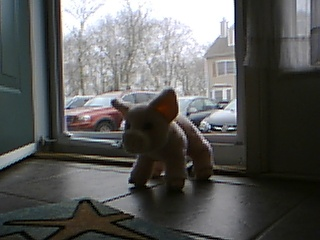piggy: (110, 85, 218, 193)
